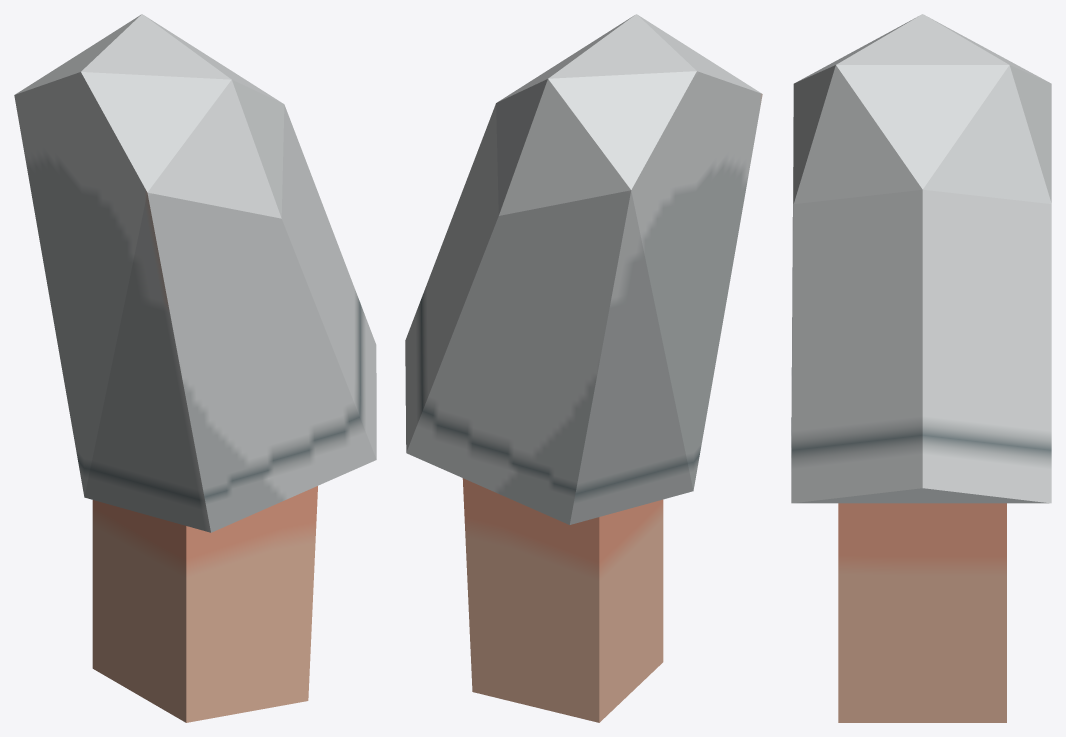
Rendered from 04_LEFT_SHOULDER.obj.
3 views of the same model, side by side, from view 1: azimuth 30°, elevation 25°; view 2: azimuth 150°, elevation 25°; view 3: azimuth 270°, elevation 25° (orthographic). The views are drawn at different scales.
Parts seen in each view (by area): view 1: 04_LEFT_SHOULDER; view 2: 04_LEFT_SHOULDER; view 3: 04_LEFT_SHOULDER.
Boxes of the visible parts, <box> form: 04_LEFT_SHOULDER: <box>14,14,376,722</box>; 04_LEFT_SHOULDER: <box>405,14,762,722</box>; 04_LEFT_SHOULDER: <box>791,14,1051,722</box>.
Size of the model in its own units: 0.1332 by 0.2766 by 0.105.
1 material, 1 textured.
